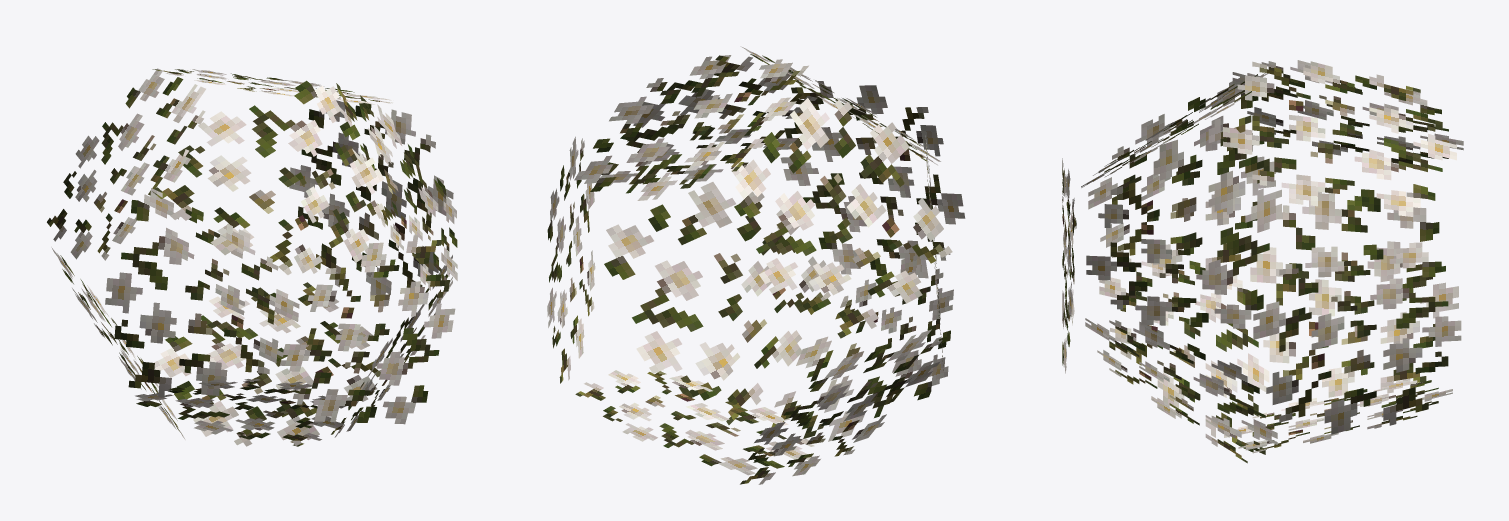
The model's file is flowers-small-14-white.obj.
3 views of the same model, side by side, from view 1: azimuth 30°, elevation 25°; view 2: azimuth 150°, elevation 25°; view 3: azimuth 270°, elevation 25° (orthographic). The views are drawn at different scales.
Size of the model in its own units: 1.09 by 1.08 by 0.9643.
1 material, 1 textured.
